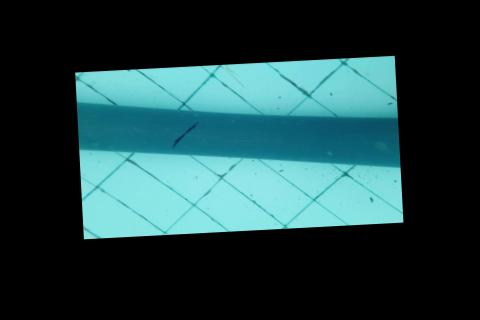keretakan: (168, 119, 201, 149)
